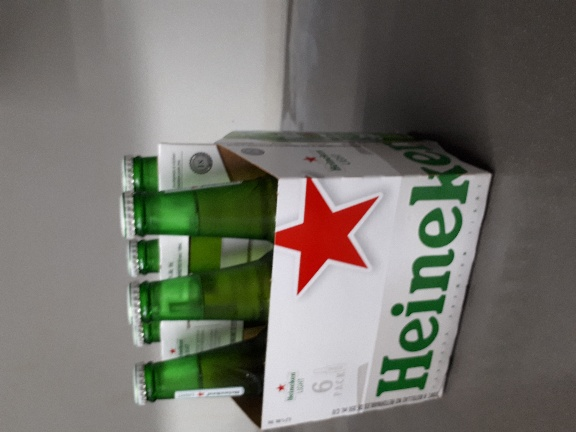HLB: (78, 81, 365, 314)
